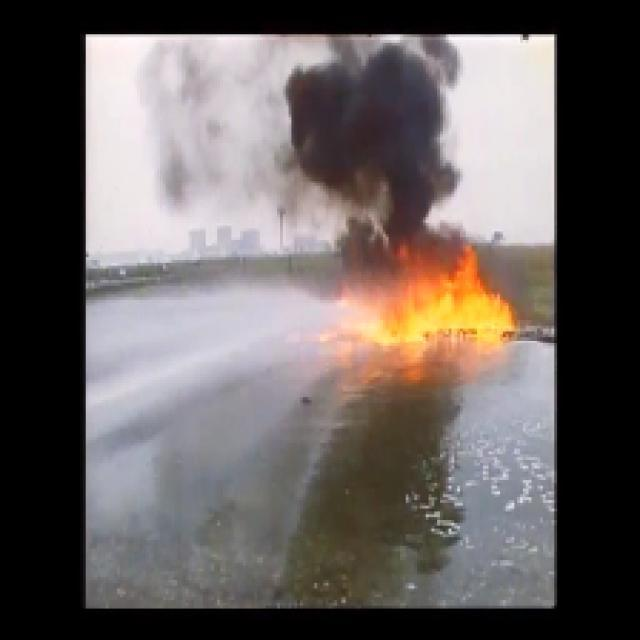Fire: (388, 279, 503, 322)
Smoke: (305, 56, 453, 260)
